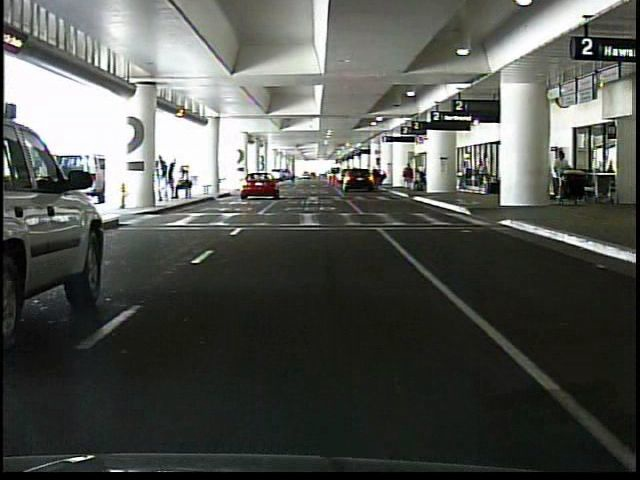person: (550, 149, 571, 204), (157, 151, 172, 203), (173, 169, 195, 200), (168, 159, 179, 201), (401, 162, 415, 193), (476, 161, 486, 196), (456, 162, 468, 190)
